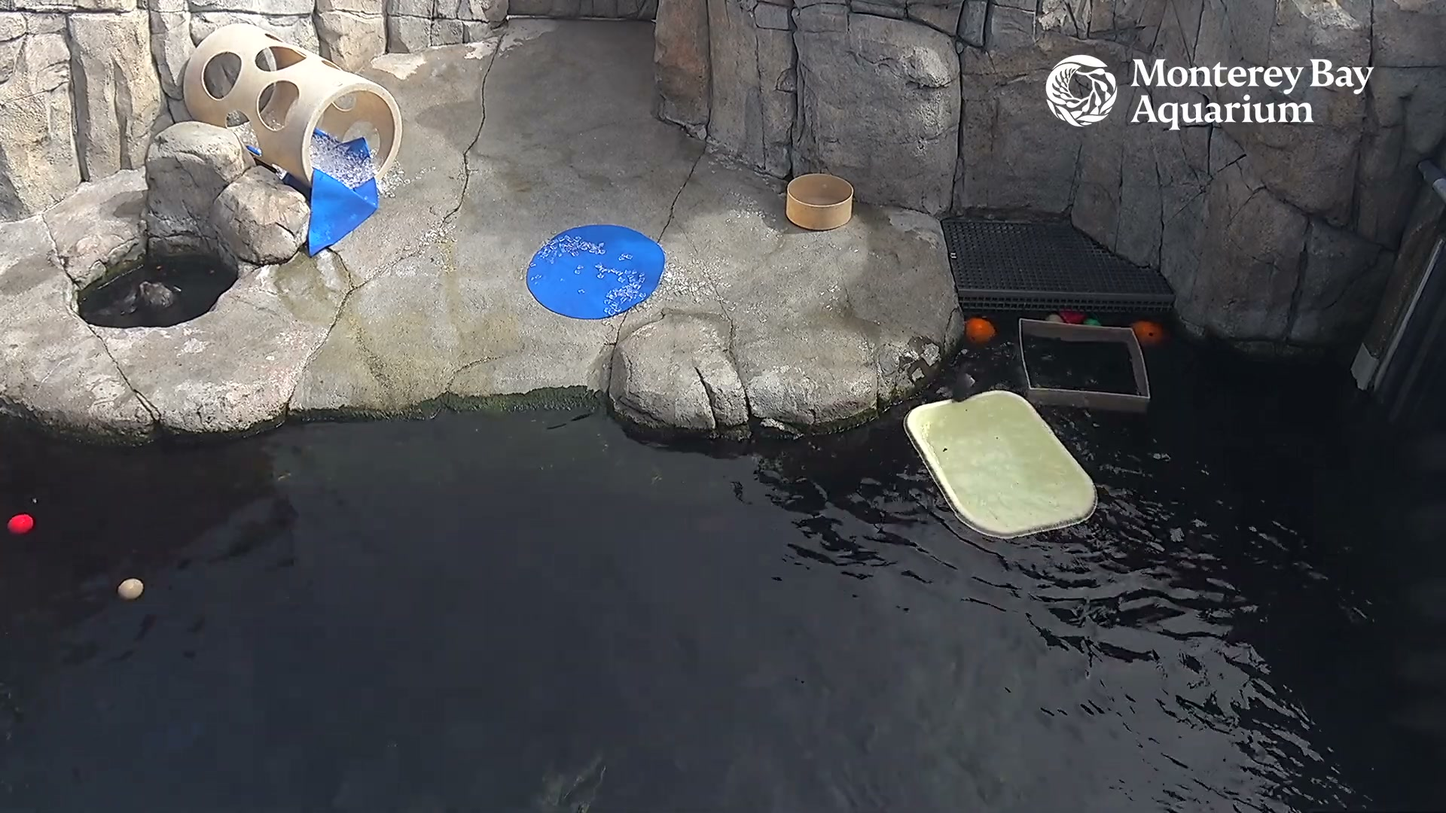Southern Sea Otter: (110, 269, 188, 323)
